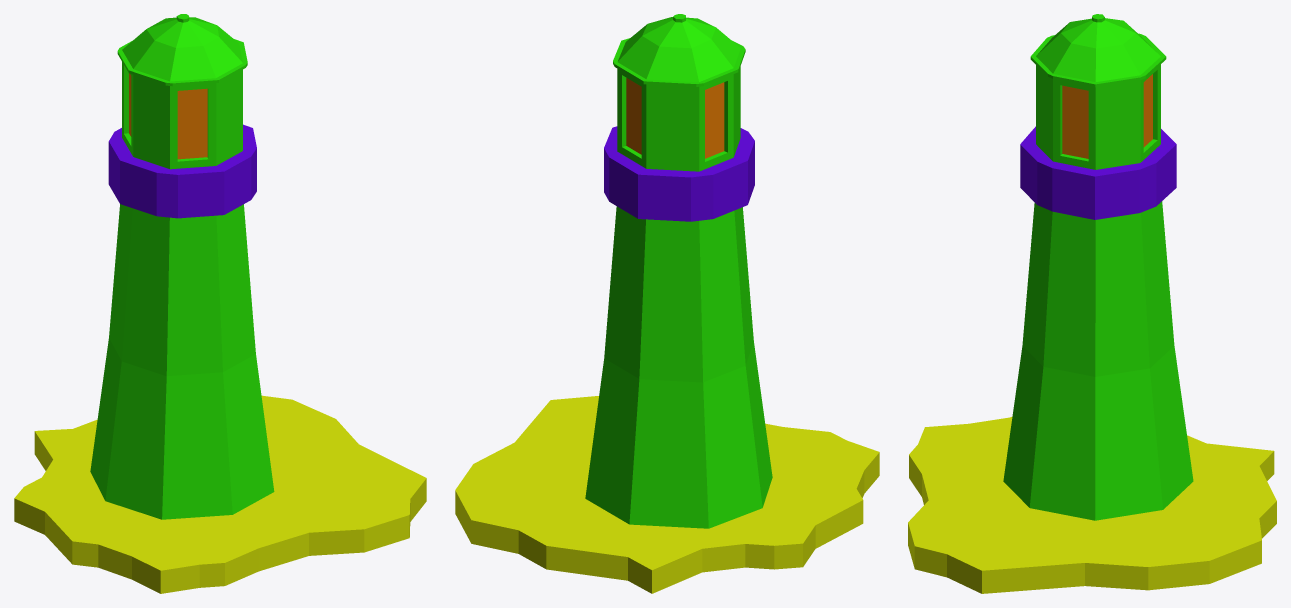
Rendered from Lighthouse.fbx.
The picture shows the model from 3 angles, left to right: view 1: azimuth 30°, elevation 25°; view 2: azimuth 150°, elevation 25°; view 3: azimuth 270°, elevation 25°; orthographic projection.
Parts seen in each view (by area): view 1: Cube, Plane; view 2: Cube, Plane; view 3: Cube, Plane.
Boxes of the visible parts, x1=… form: Cube: x1=90, y1=14, x2=274, y2=519; Plane: x1=14, y1=395, x2=426, y2=593; Cube: x1=585, y1=14, x2=772, y2=528; Plane: x1=455, y1=396, x2=879, y2=593; Cube: x1=1003, y1=14, x2=1193, y2=520; Plane: x1=908, y1=416, x2=1276, y2=593.
Bounding box in the file's own units: 365 × 514 × 353.
